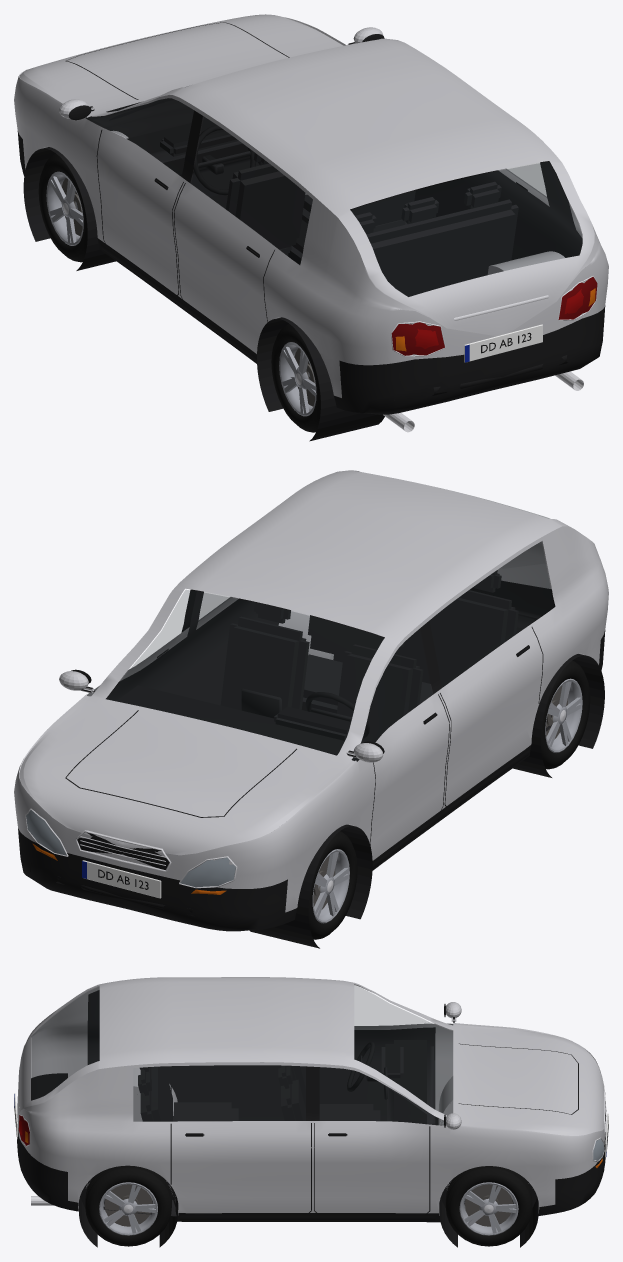
Rendered from hatchback.glb.
The picture shows the model from 3 angles, top to bottom: view 1: azimuth 30°, elevation 25°; view 2: azimuth 150°, elevation 25°; view 3: azimuth 270°, elevation 25°; orthographic projection. The views are drawn at different scales.
Parts seen in each view (by area): view 1: Body, Glass, Interior, Lights, Rim_FL, Rim_RL, Tire_RL, Tire_FL; view 2: Body, Glass, Interior, Lights, Rim_FL, Rim_RL, Tire_RL, Tire_FL; view 3: Body, Glass, Interior, Tire_RR, Tire_FR, Rim_FR, Rim_RR, Lights.
Part boxes in pixels (box(x1,y1,x2,y2)): Body: box(14, 14, 608, 441); Glass: box(87, 98, 581, 296); Interior: box(109, 98, 582, 379); Lights: box(391, 277, 597, 355); Rim_FL: box(46, 171, 83, 245); Rim_RL: box(279, 342, 316, 416); Tire_RL: box(271, 324, 320, 432); Tire_FL: box(38, 153, 87, 262); Body: box(14, 470, 608, 948); Glass: box(87, 498, 553, 760); Interior: box(106, 570, 552, 761); Lights: box(26, 810, 235, 894); Rim_FL: box(312, 849, 349, 923); Rim_RL: box(545, 678, 582, 752); Tire_RL: box(541, 660, 590, 769); Tire_FL: box(308, 831, 357, 939); Body: box(14, 977, 608, 1247); Glass: box(32, 985, 452, 1125); Interior: box(87, 990, 435, 1216); Tire_RR: box(85, 1165, 171, 1246); Tire_FR: box(445, 1166, 532, 1246); Rim_FR: box(459, 1182, 518, 1235); Rim_RR: box(99, 1182, 157, 1235); Lights: box(18, 1115, 604, 1167).
Size of the model in its own units: 2.09 by 1.49 by 4.33.
